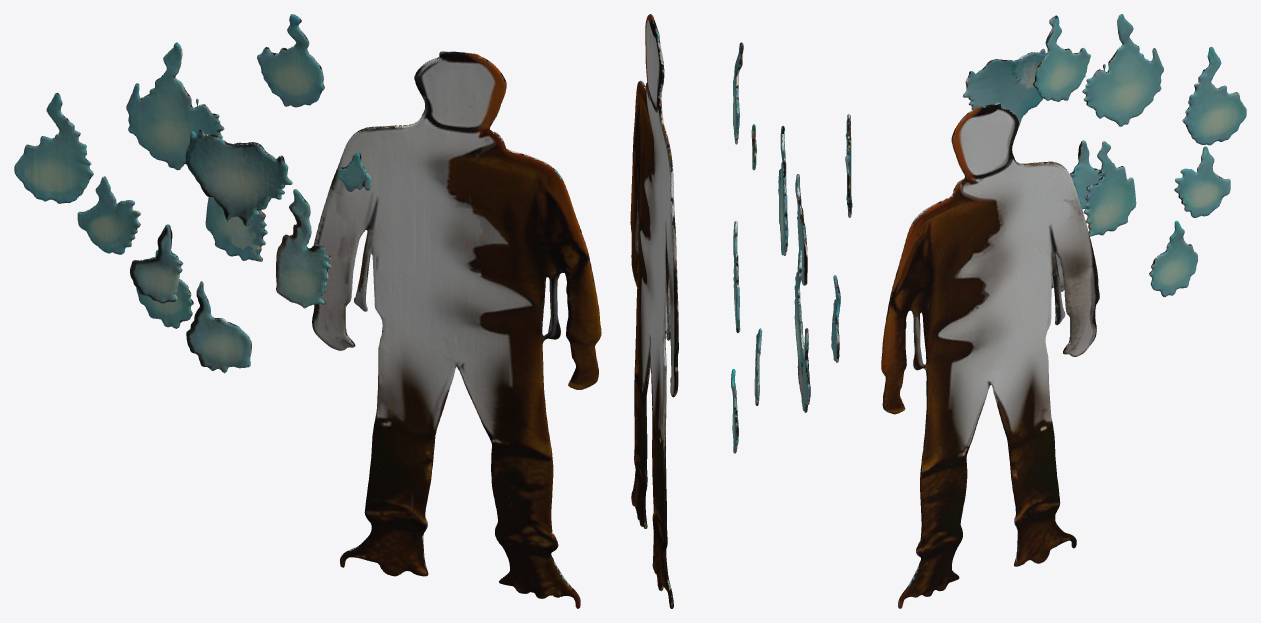
The model's file is WILL-O'-WISP.glb.
3 renders of one model, left to right at view 1: azimuth 30°, elevation 25°; view 2: azimuth 150°, elevation 25°; view 3: azimuth 270°, elevation 25°, orthographic. The views are drawn at different scales.
Parts seen in each view (by area): view 1: WILL-O'-WISP; view 2: WILL-O'-WISP; view 3: WILL-O'-WISP.
Boxes of the visible parts, x1=… form: WILL-O'-WISP: x1=14, y1=14, x2=601, y2=608; WILL-O'-WISP: x1=630, y1=14, x2=852, y2=608; WILL-O'-WISP: x1=881, y1=14, x2=1246, y2=608.
Bounding box in the file's own units: 1.37 × 1.98 × 1.29.
1 material, 1 textured.
